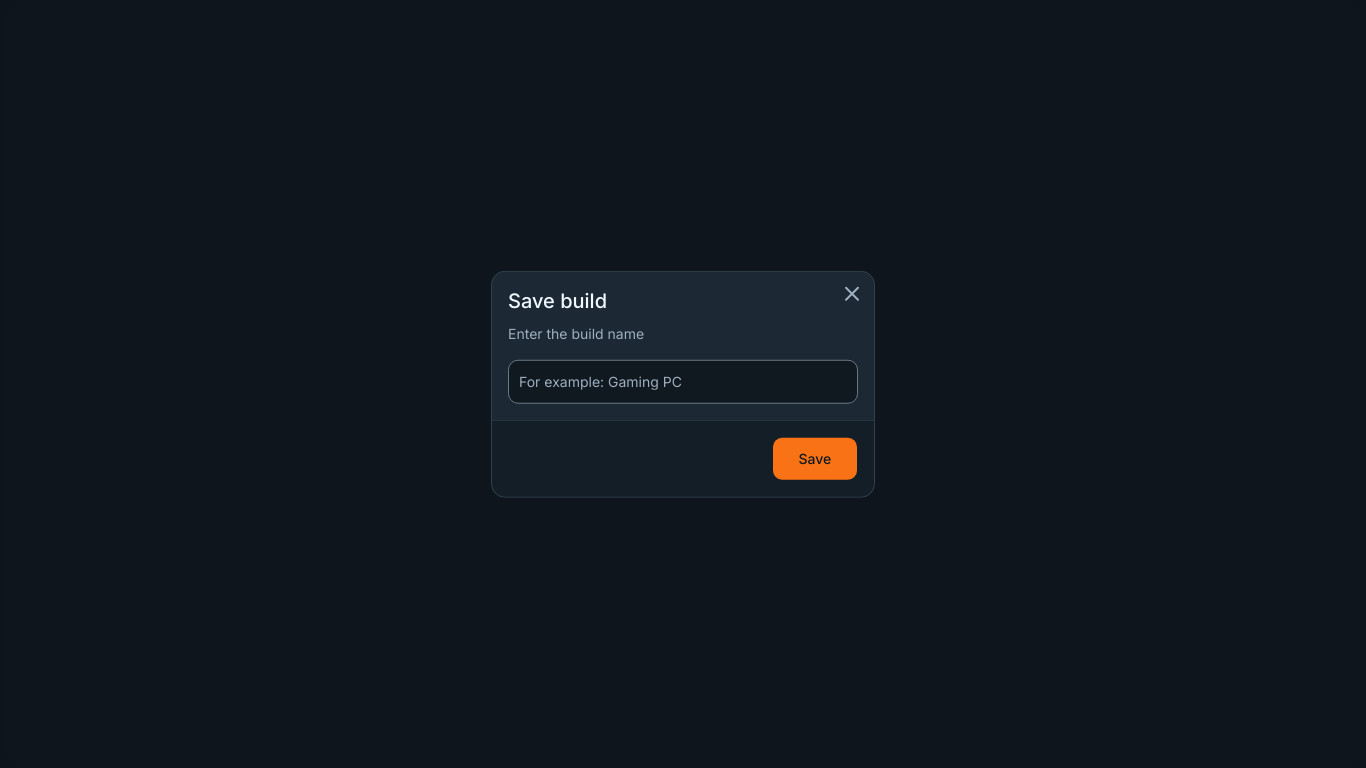
SaveBuildDialog › resets build name after successful save
Type "PC Gaming!" into the field named "Build name" at [683, 381], box [508, 359, 858, 403]
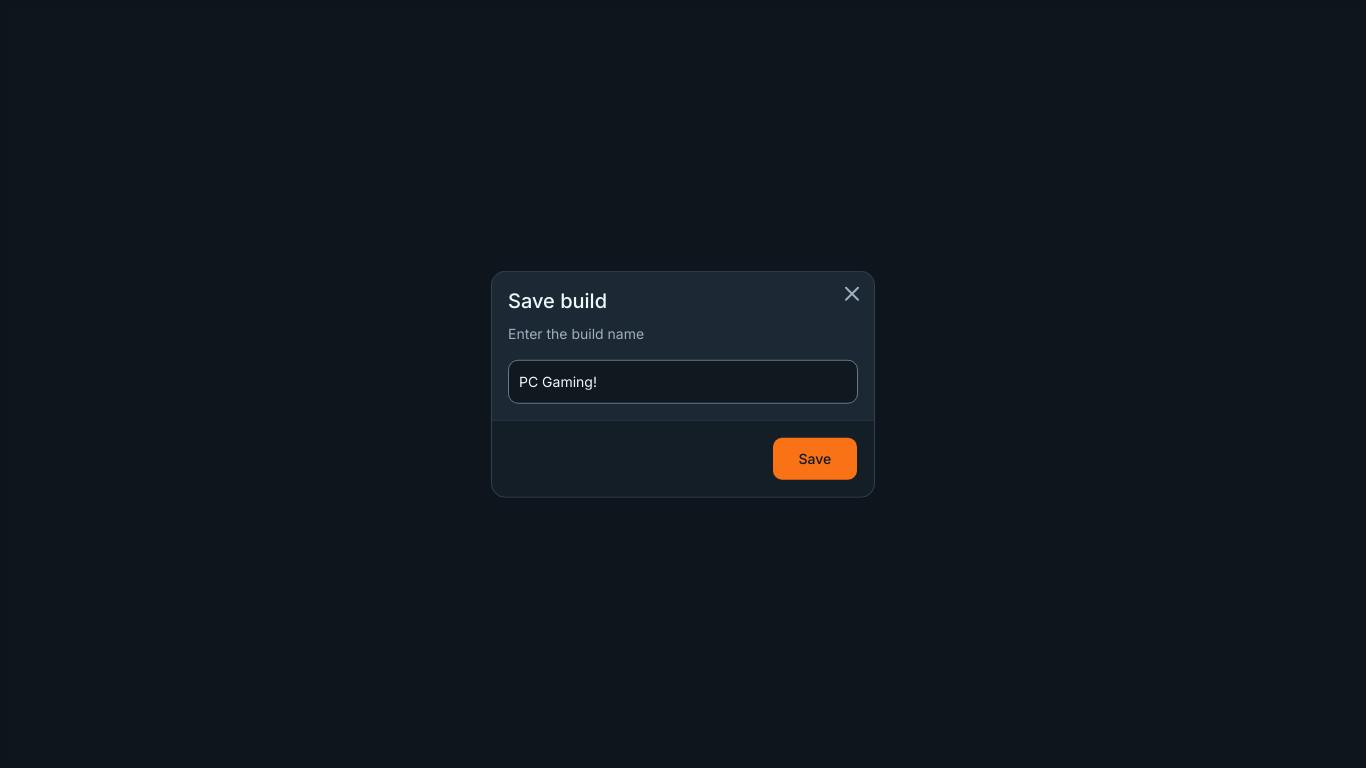
Click the button "Save" at [815, 458], box [772, 436, 858, 480]
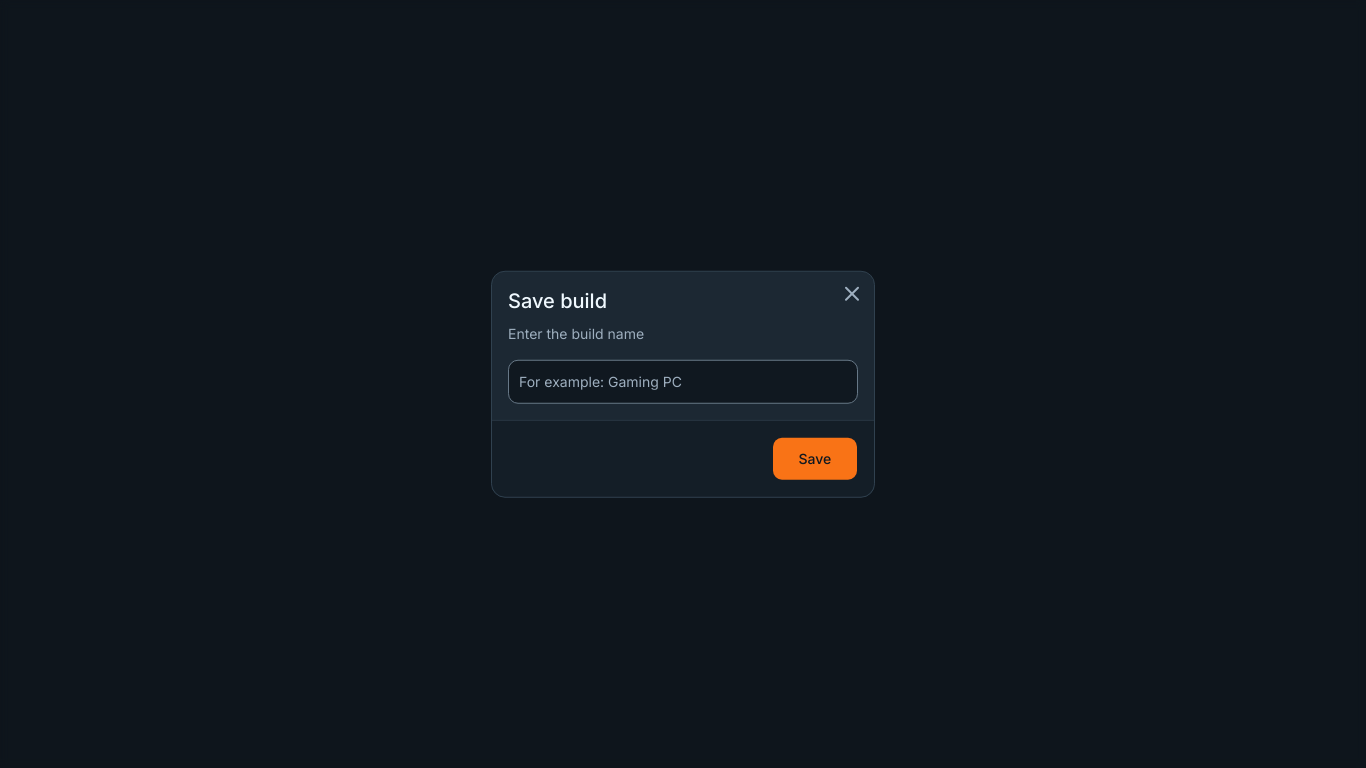
Now the field named "Build name" is empty, box [508, 359, 858, 403]
